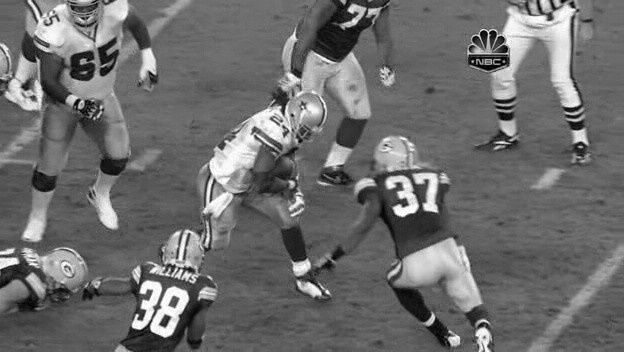person: (290, 96, 325, 141), (289, 96, 324, 141), (291, 96, 326, 141), (290, 95, 325, 140), (290, 97, 325, 142)
target_negative: (35, 128, 267, 309), (453, 87, 600, 257), (309, 193, 455, 264), (360, 303, 400, 346), (129, 290, 145, 344), (455, 315, 465, 350)
